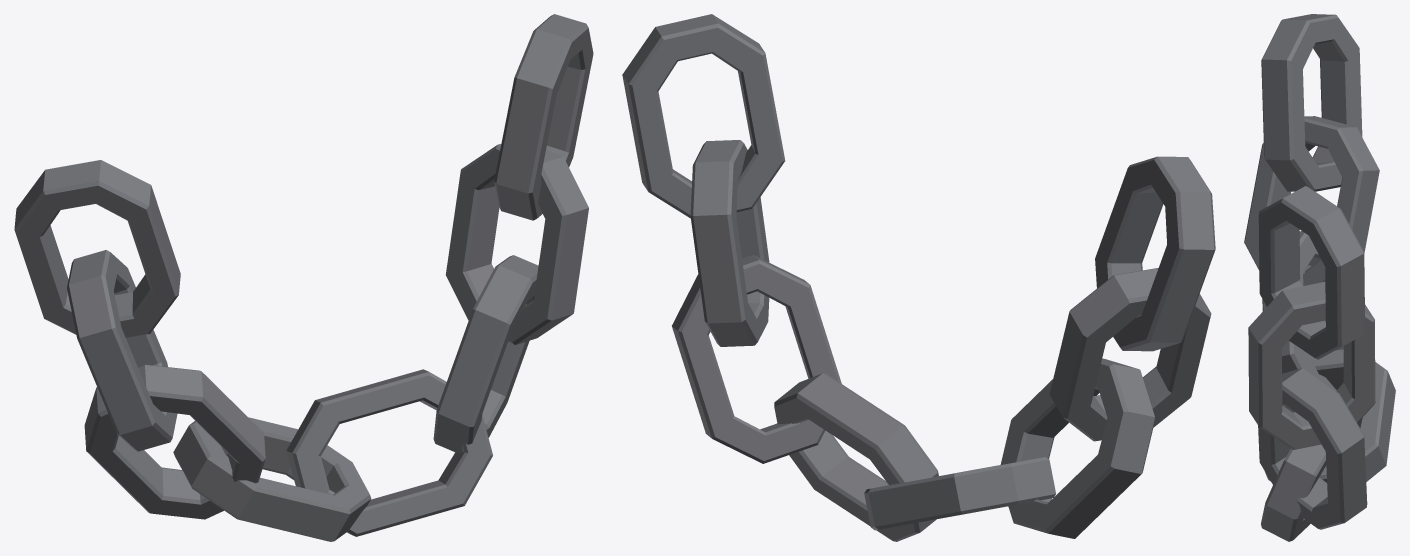
File: genericChain.fbx
The picture shows the model from 3 angles, left to right: view 1: azimuth 30°, elevation 25°; view 2: azimuth 150°, elevation 25°; view 3: azimuth 270°, elevation 25°; orthographic projection. The views are drawn at different scales.
Parts seen in each view (by area): view 1: genericChain; view 2: genericChain; view 3: genericChain.
Boxes of the visible parts, x1=… form: genericChain: x1=14, y1=14, x2=593, y2=541; genericChain: x1=622, y1=14, x2=1215, y2=541; genericChain: x1=1244, y1=14, x2=1395, y2=541.
Bounding box in the file's own units: 1.96 × 1.5 × 0.5035.
Materials: 1 (1 with a texture image).
